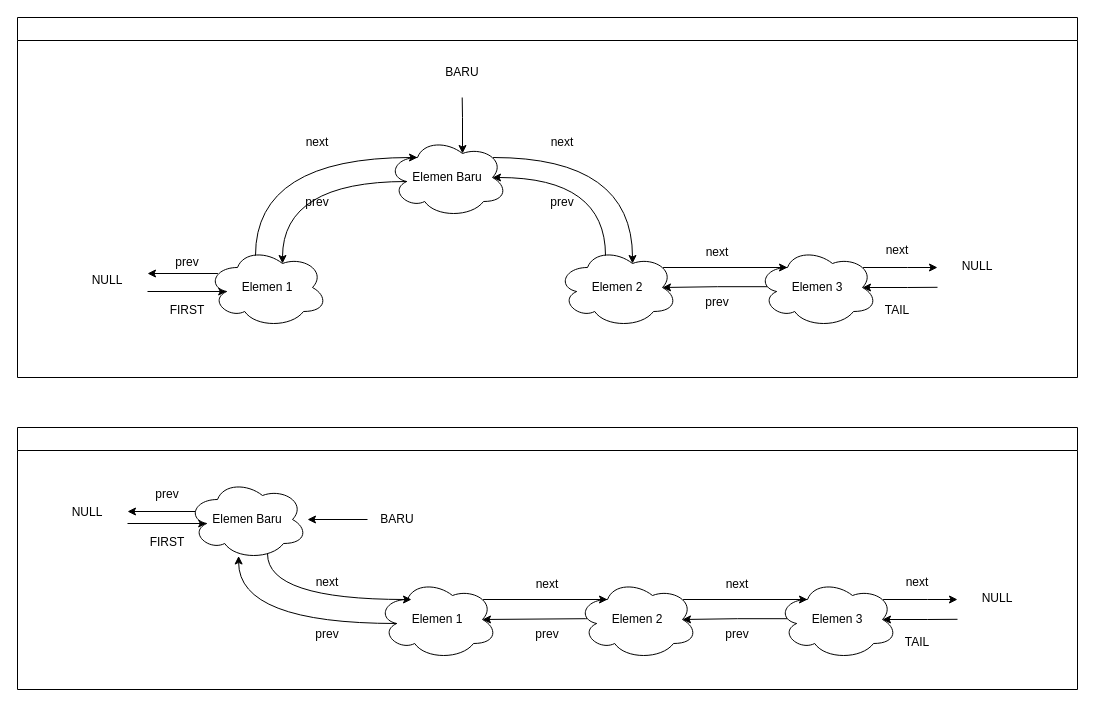
This 1095x707 diagram has some shape labels left out. Each missing label, with the centre of its shape:
Kemungkinan - 1: [547,197]
Kemungkinan - 2: [547,558]
